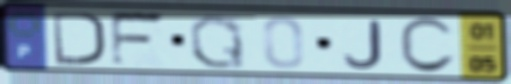0: (261, 15, 307, 71)
C: (396, 15, 459, 76)
D: (49, 9, 109, 67)
F: (107, 10, 171, 69)
J: (341, 18, 386, 70)
Q: (186, 12, 249, 72)
